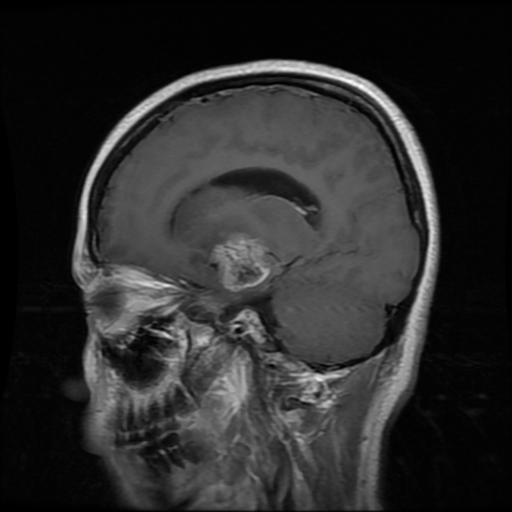Gliomia_tumour: (209, 232, 271, 289)
